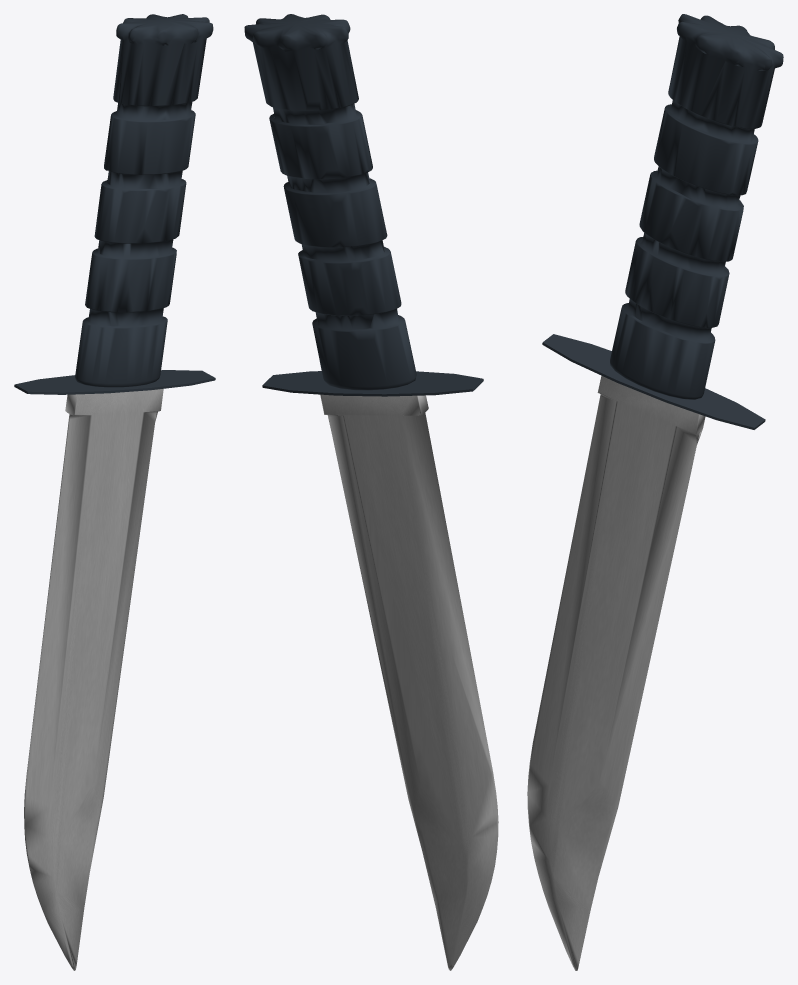
Rendered from xiaodao.glb.
The picture shows the model from 3 angles, left to right: view 1: azimuth 30°, elevation 25°; view 2: azimuth 150°, elevation 25°; view 3: azimuth 330°, elevation 25°; orthographic projection. The views are drawn at different scales.
Visible parts, largest first — view 1: xiaodao; view 2: xiaodao; view 3: xiaodao.
Boxes of the visible parts, <box> form: xiaodao: <box>14,14,215,970</box>; xiaodao: <box>244,14,498,970</box>; xiaodao: <box>527,14,783,970</box>.
Size of the model in its own units: 0.0823 by 0.3331 by 0.0287.
2 materials, 2 textured.
